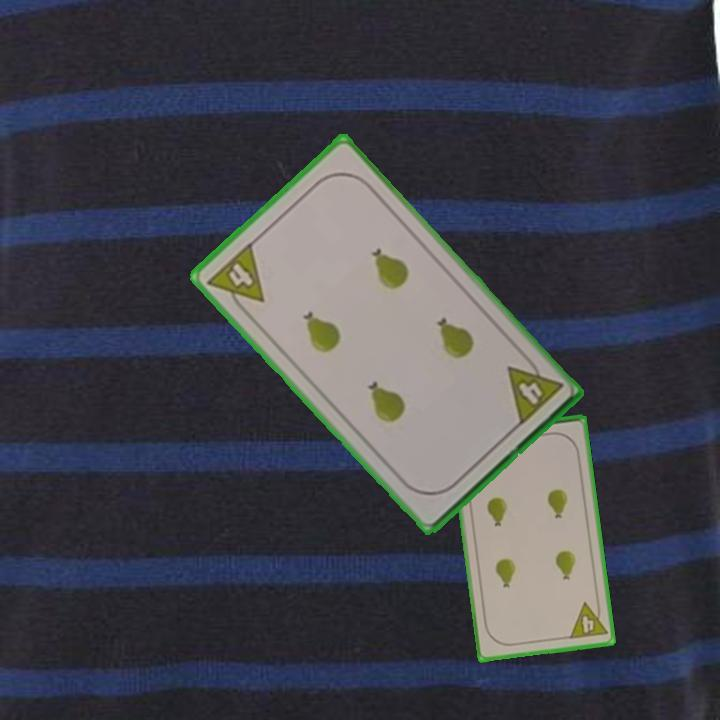4p: (203, 238, 267, 319), (503, 350, 566, 429), (566, 598, 610, 642)
